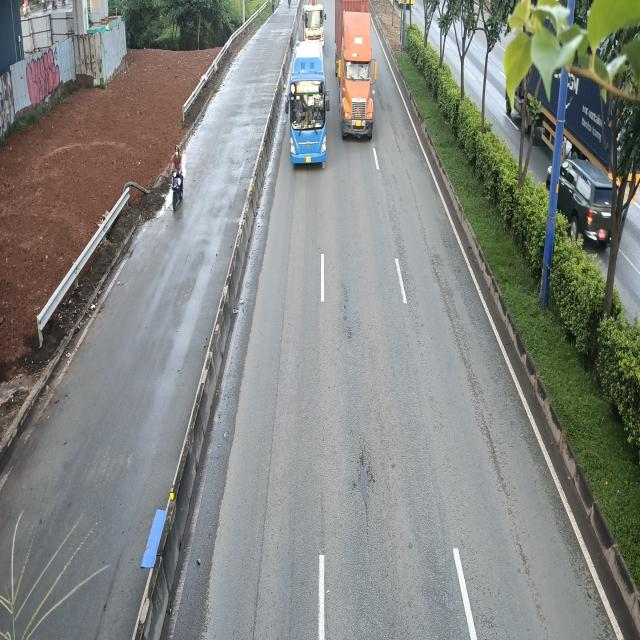coach: (285, 41, 329, 167)
container: (335, 1, 377, 140)
truck: (302, 2, 327, 48)
